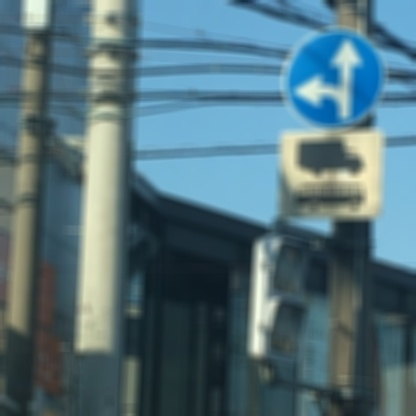Direction_sign: (281, 22, 394, 137)
